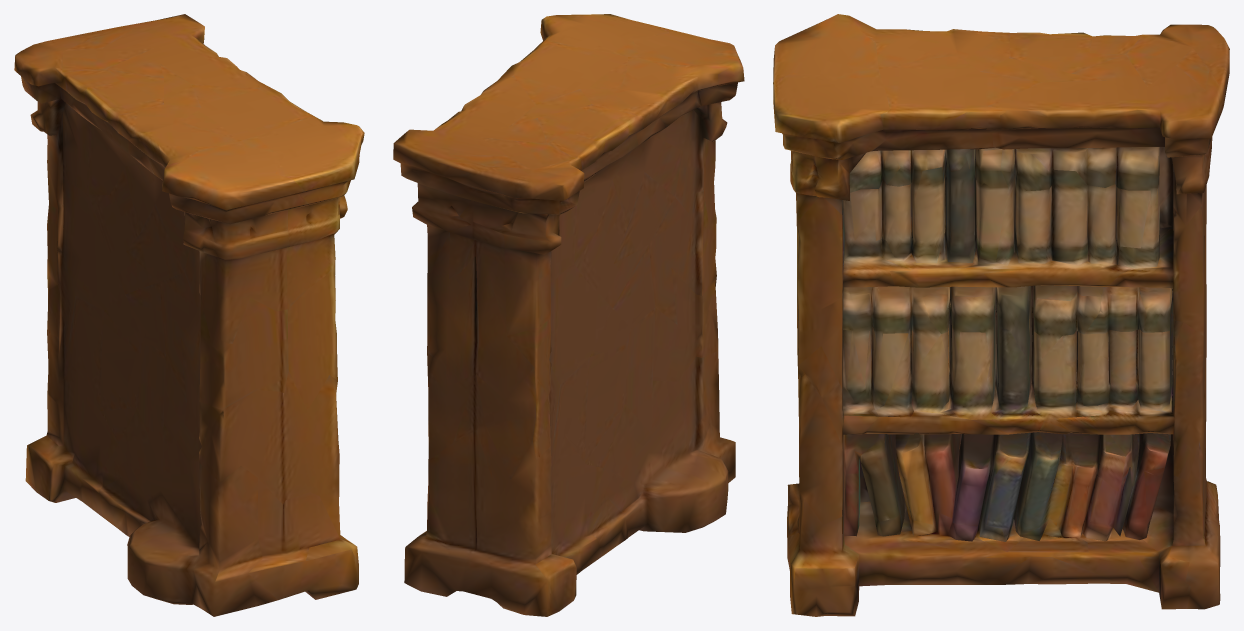
File: model-prop-shelf-cray-01.glb
3 views of the same model, side by side, from view 1: azimuth 30°, elevation 25°; view 2: azimuth 150°, elevation 25°; view 3: azimuth 270°, elevation 25° (orthographic). The views are drawn at different scales.
Parts seen in each view (by area): view 1: tripo_node_75bdf8ad-9c9a-4c42-9a63-6992459a11be; view 2: tripo_node_75bdf8ad-9c9a-4c42-9a63-6992459a11be; view 3: tripo_node_75bdf8ad-9c9a-4c42-9a63-6992459a11be.
Part boxes in pixels (bbox=[...]): tripo_node_75bdf8ad-9c9a-4c42-9a63-6992459a11be: bbox=[14, 14, 364, 616]; tripo_node_75bdf8ad-9c9a-4c42-9a63-6992459a11be: bbox=[393, 14, 744, 616]; tripo_node_75bdf8ad-9c9a-4c42-9a63-6992459a11be: bbox=[773, 14, 1229, 616].
Size of the model in its own units: 0.5749 by 1.2 by 0.9804.
1 material, 1 textured.
